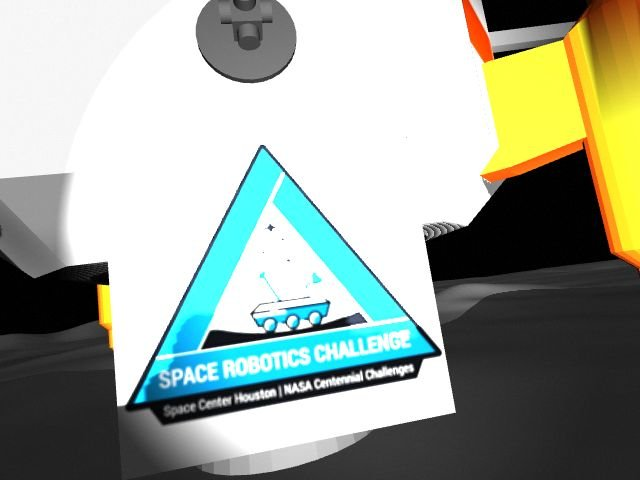basemarker: (125, 144, 443, 427)
